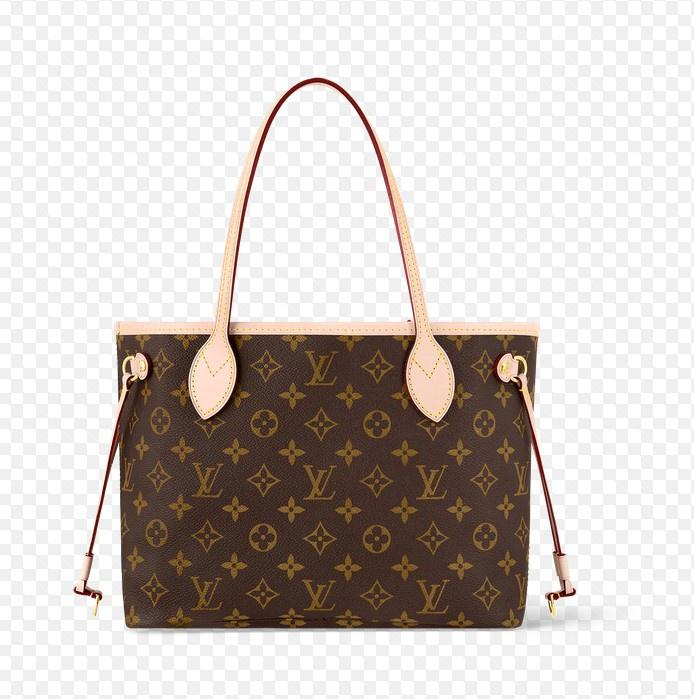LOUIS-VUITTON: (119, 339, 526, 627)
